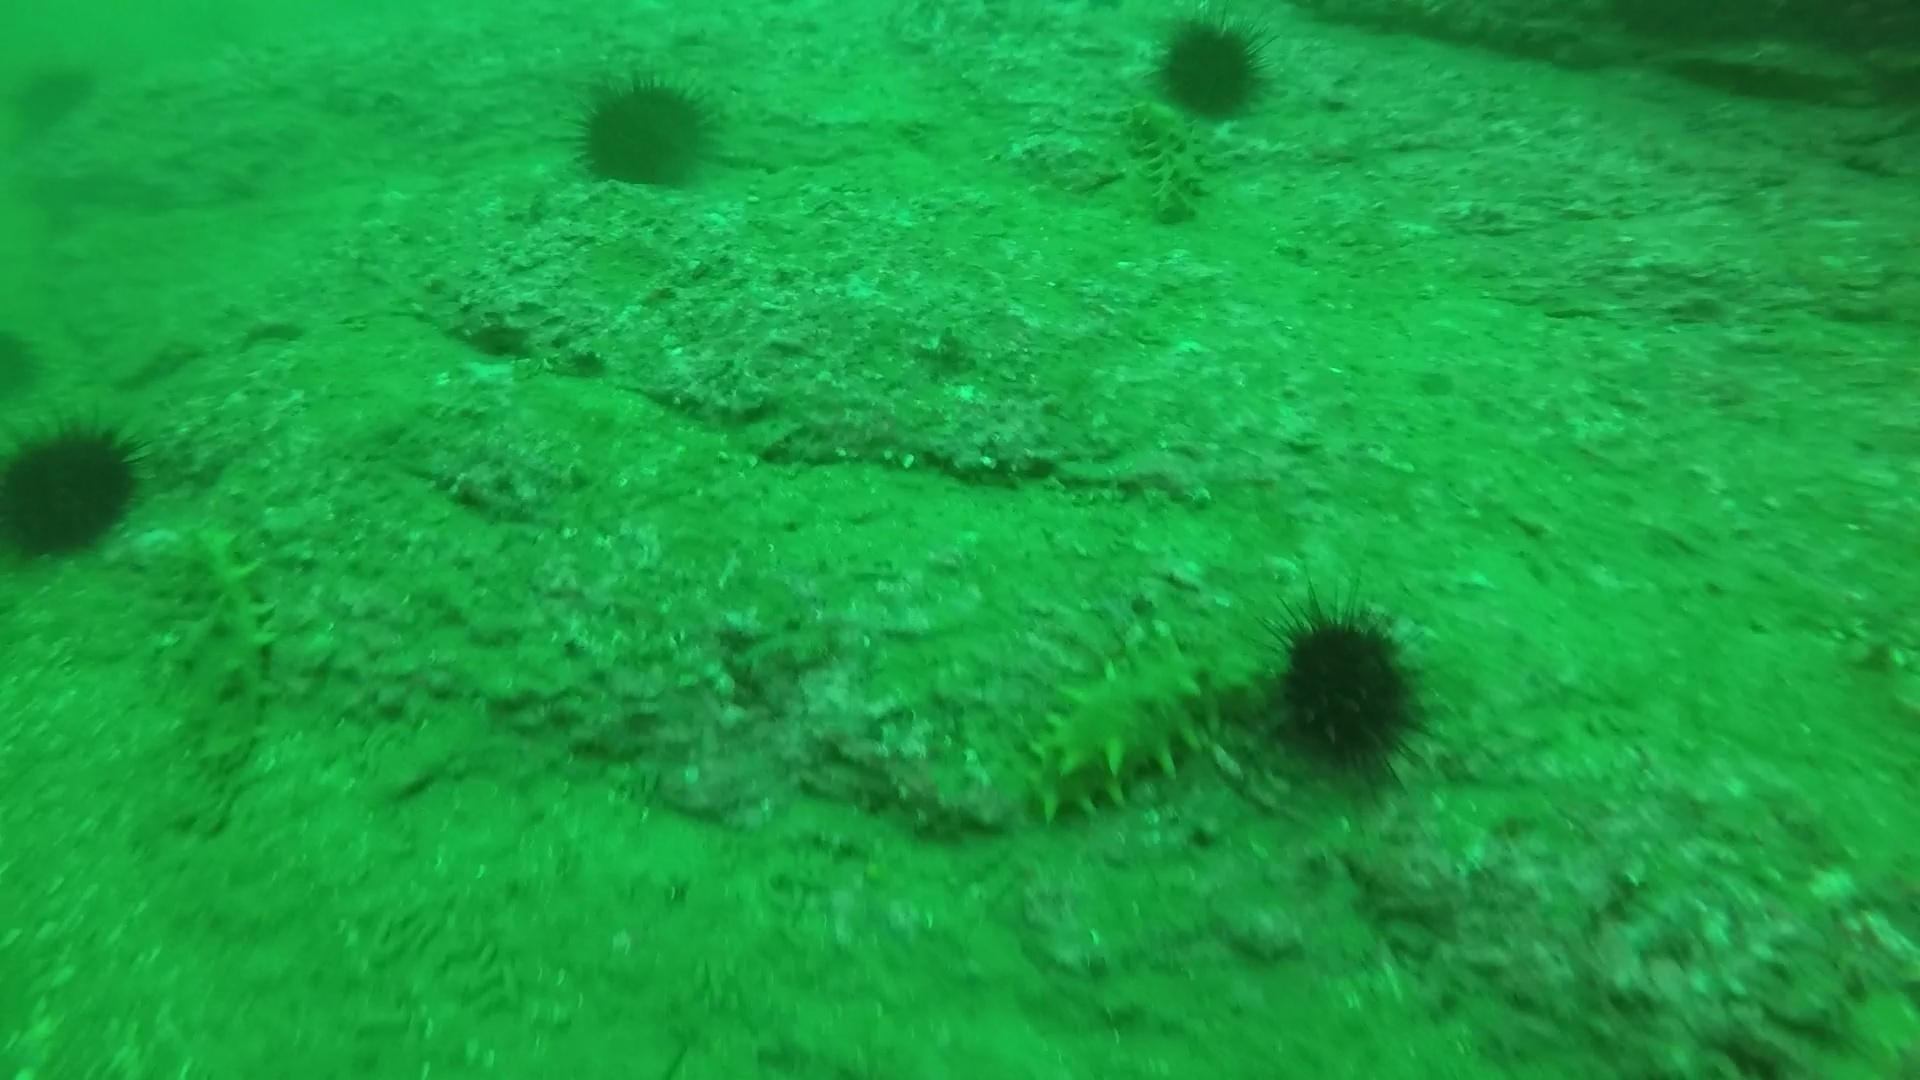echinus: (1255, 588, 1439, 785), (0, 407, 152, 566), (564, 66, 728, 196), (1145, 7, 1280, 129), (7, 50, 102, 136)
holothurian: (1009, 618, 1275, 825), (152, 520, 285, 786), (1117, 91, 1218, 229)
